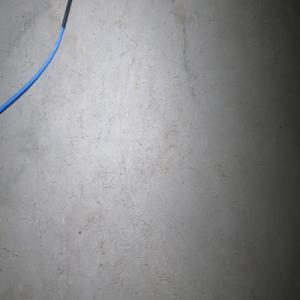Wire: (0, 0, 72, 114)
